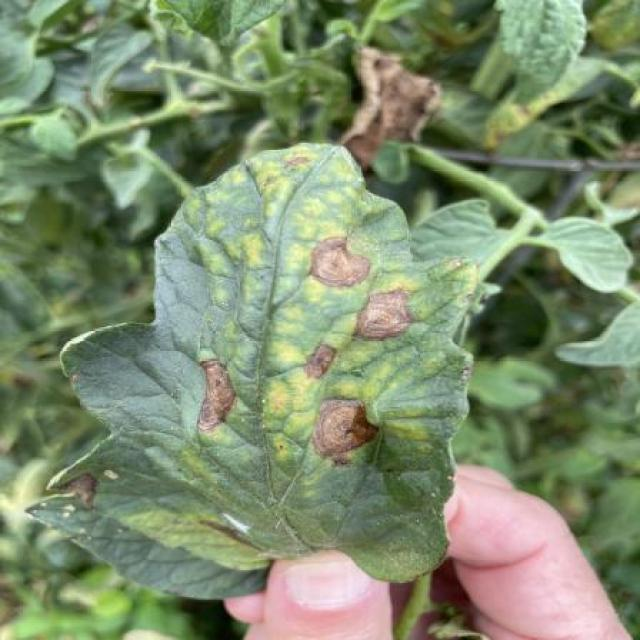Early Blight: (25, 139, 481, 604)
